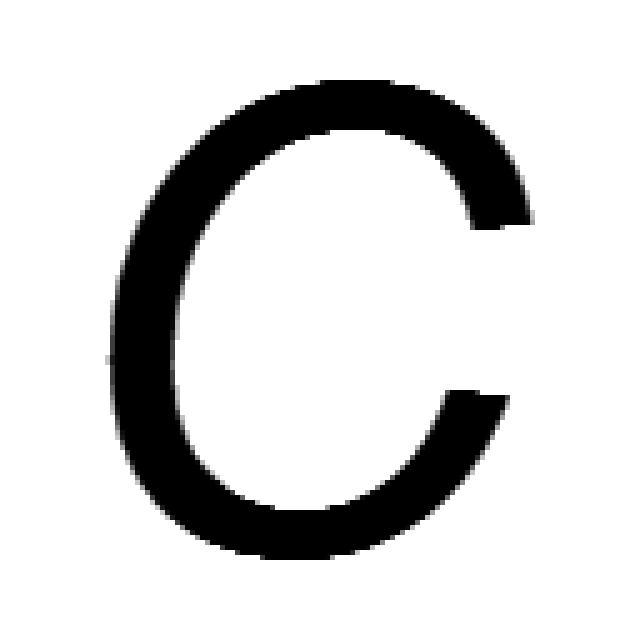C: (110, 80, 535, 565)
